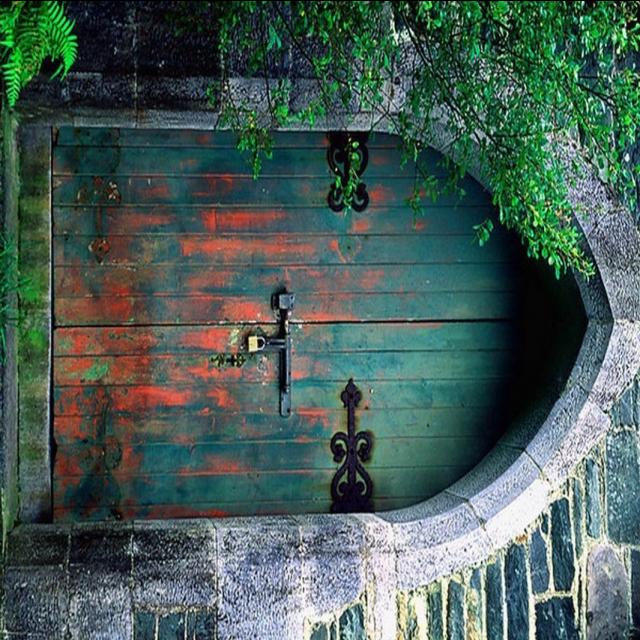close: (46, 154, 470, 508)
